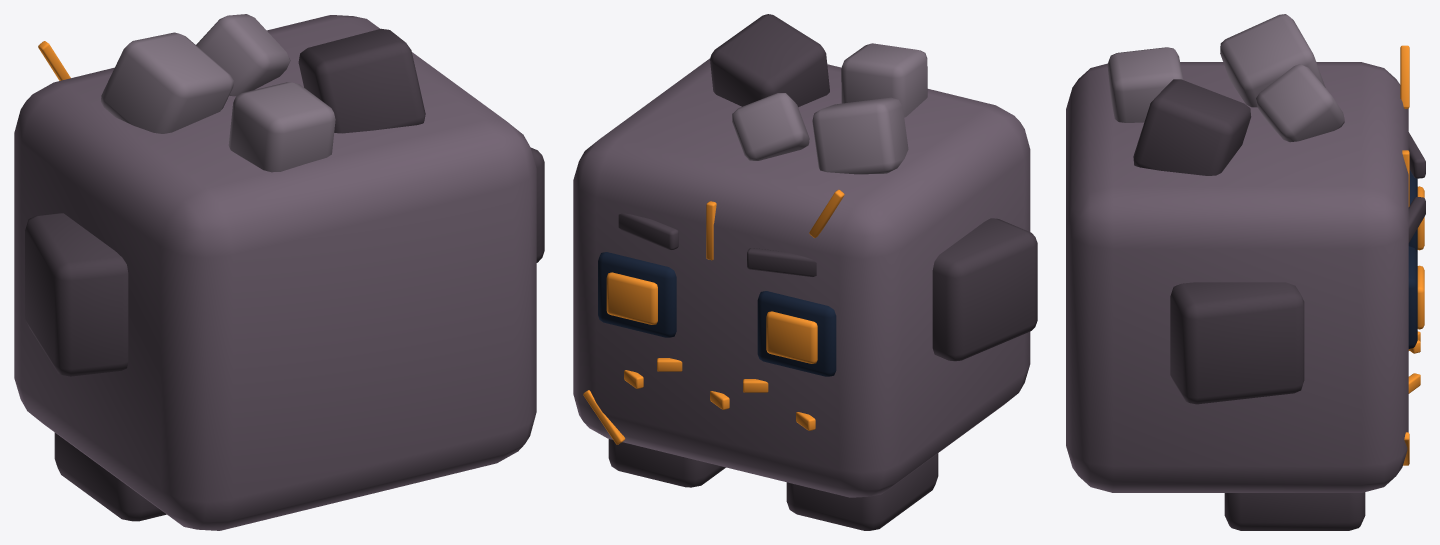
The model's file is pet_golem.fbx.
The picture shows the model from 3 angles, left to right: view 1: azimuth 30°, elevation 25°; view 2: azimuth 150°, elevation 25°; view 3: azimuth 270°, elevation 25°; orthographic projection. The views are drawn at different scales.
Visible parts, largest first — view 1: pet_golem; view 2: pet_golem; view 3: pet_golem.
Boxes of the visible parts, <box> form: pet_golem: <box>14,14,544,530</box>; pet_golem: <box>573,14,1037,530</box>; pet_golem: <box>1066,14,1425,530</box>.
Size of the model in its own units: 2.77 by 2.49 by 2.
Materials: 1 (1 with a texture image).
